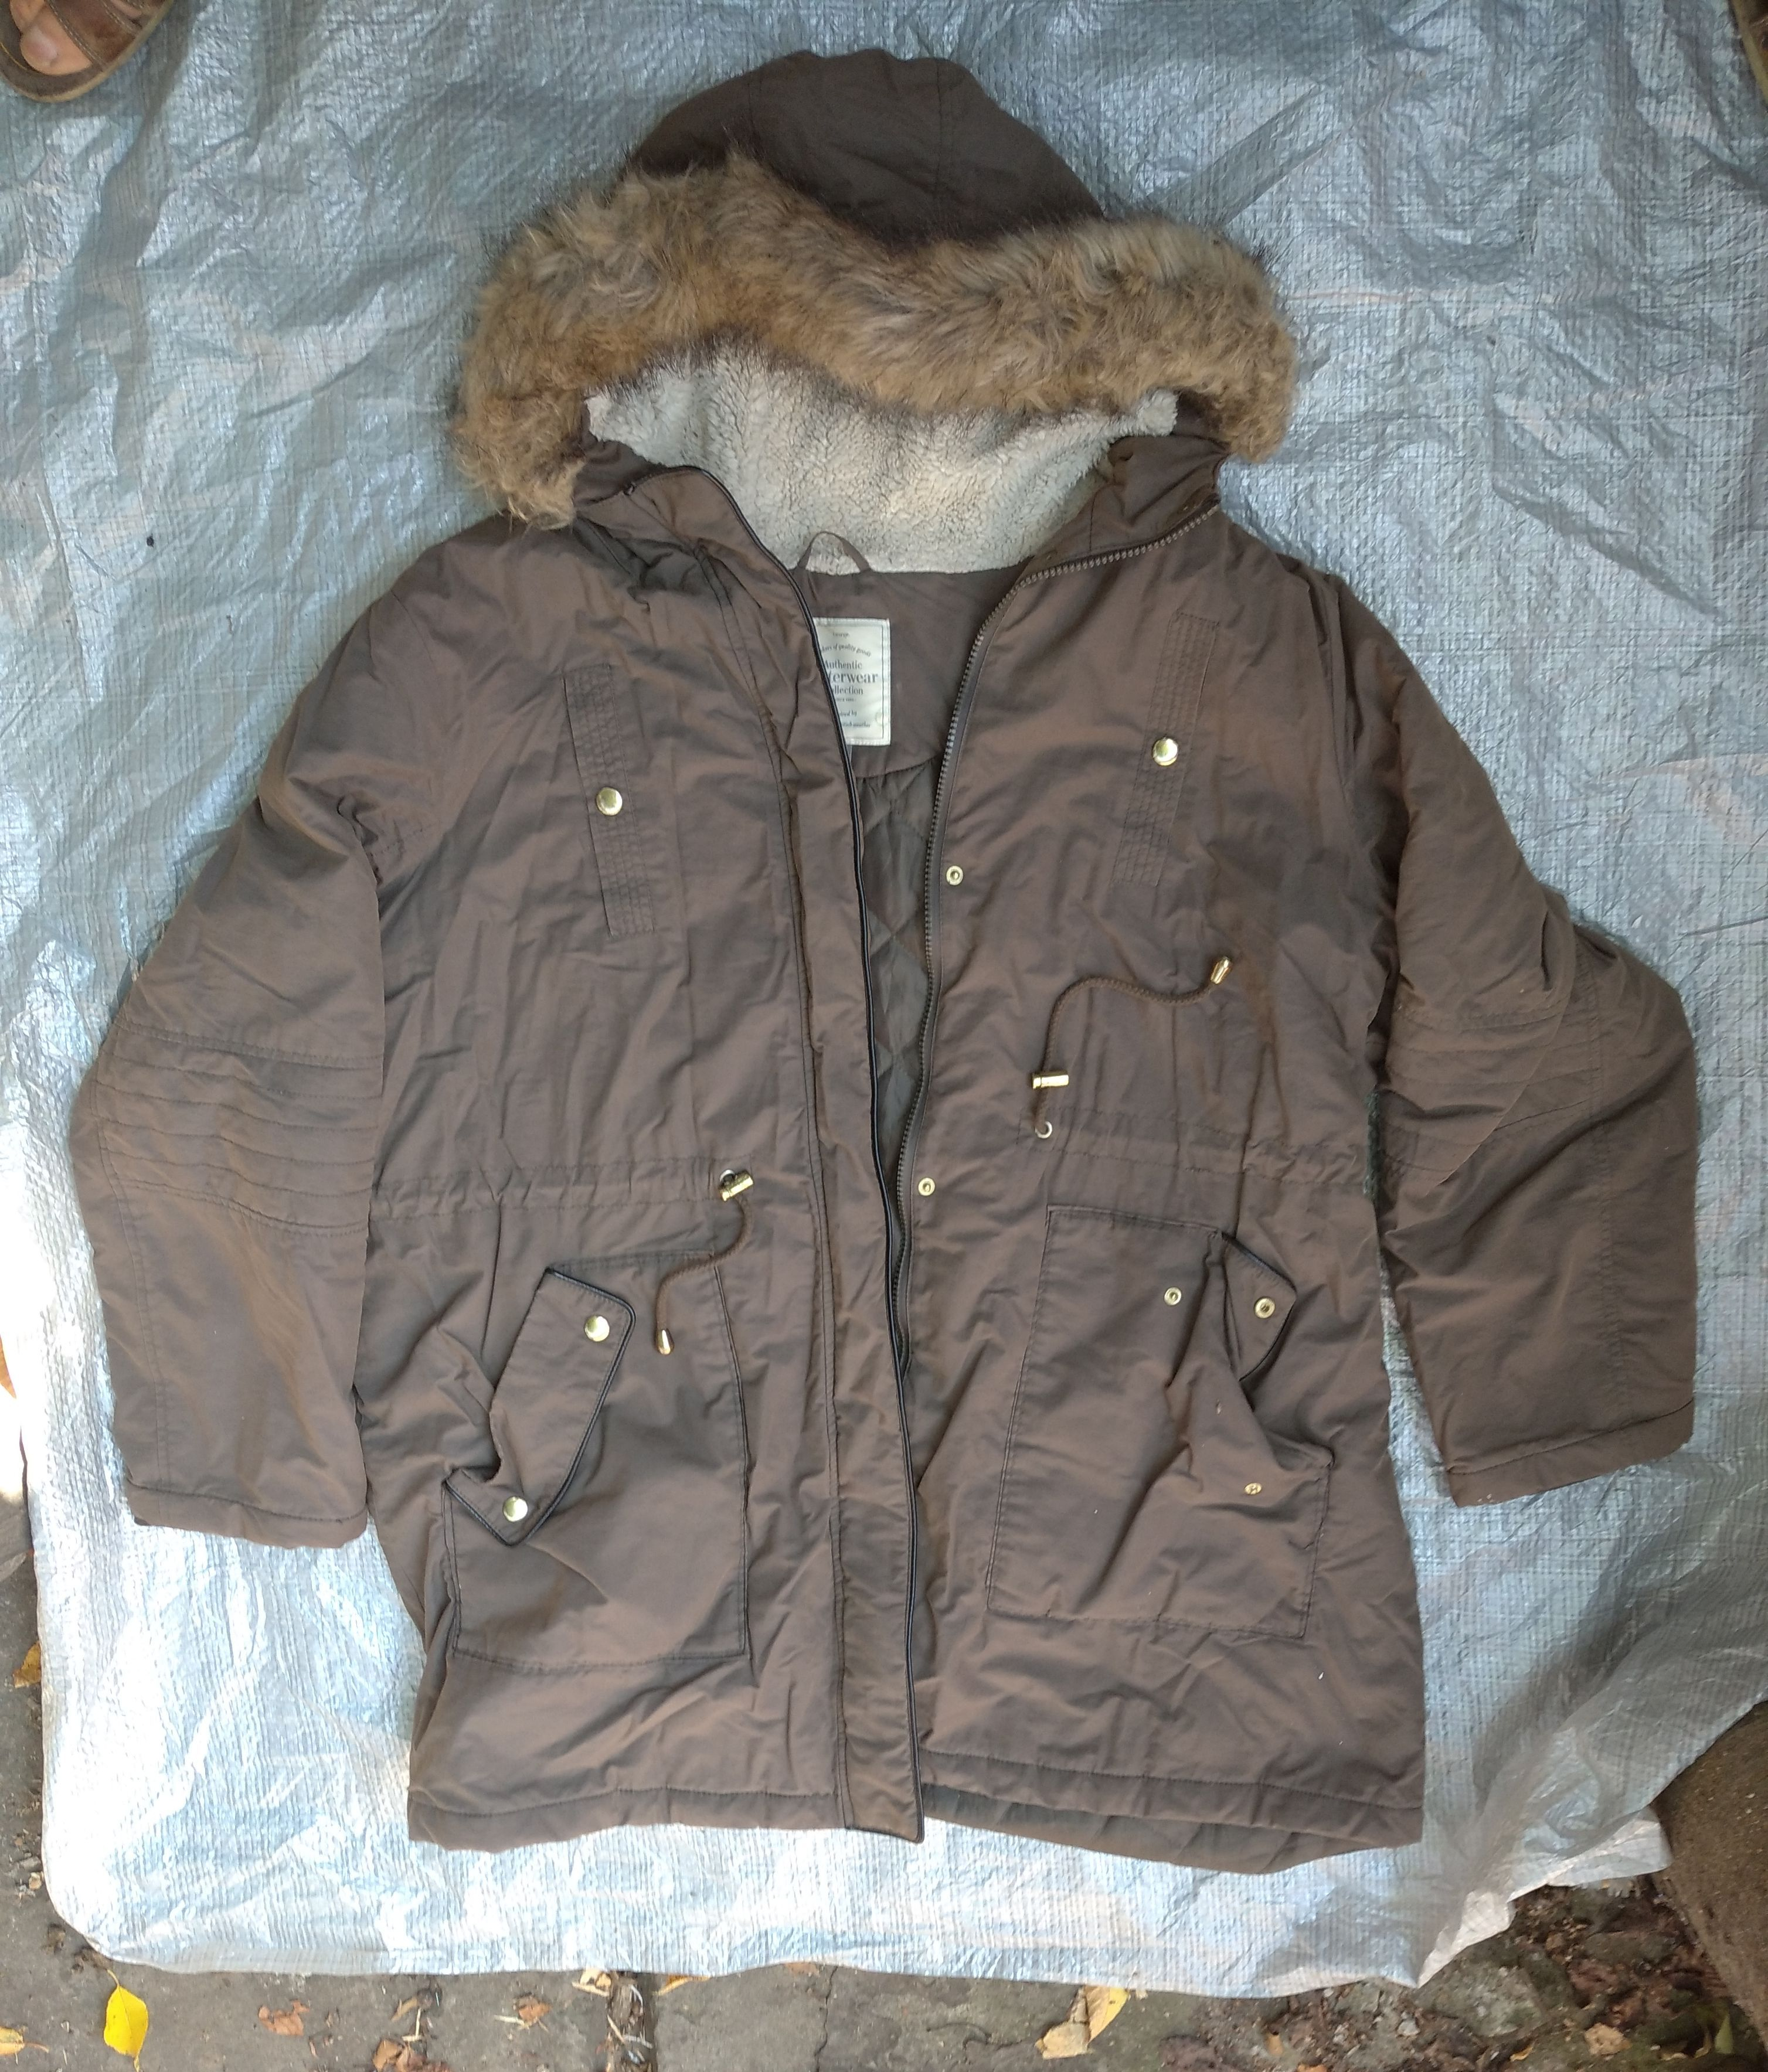clothes: (40, 61, 1715, 1870)
